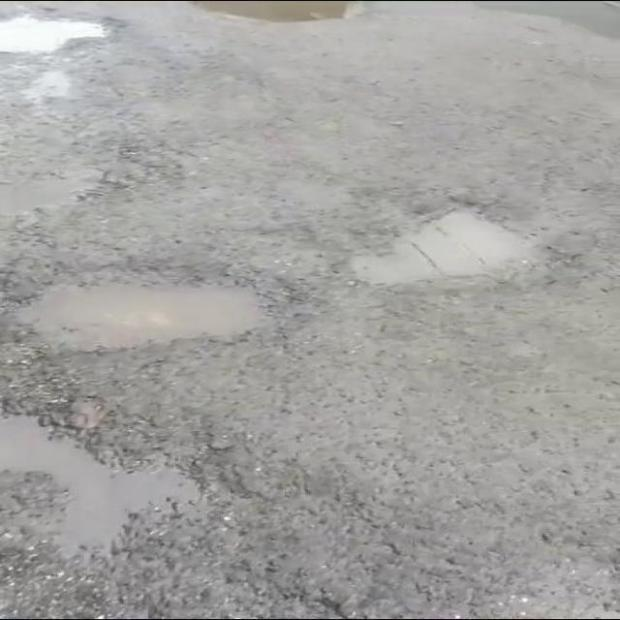lubang: (0, 415, 207, 553), (3, 267, 296, 352), (351, 209, 538, 285), (0, 16, 107, 53), (177, 2, 363, 21)
